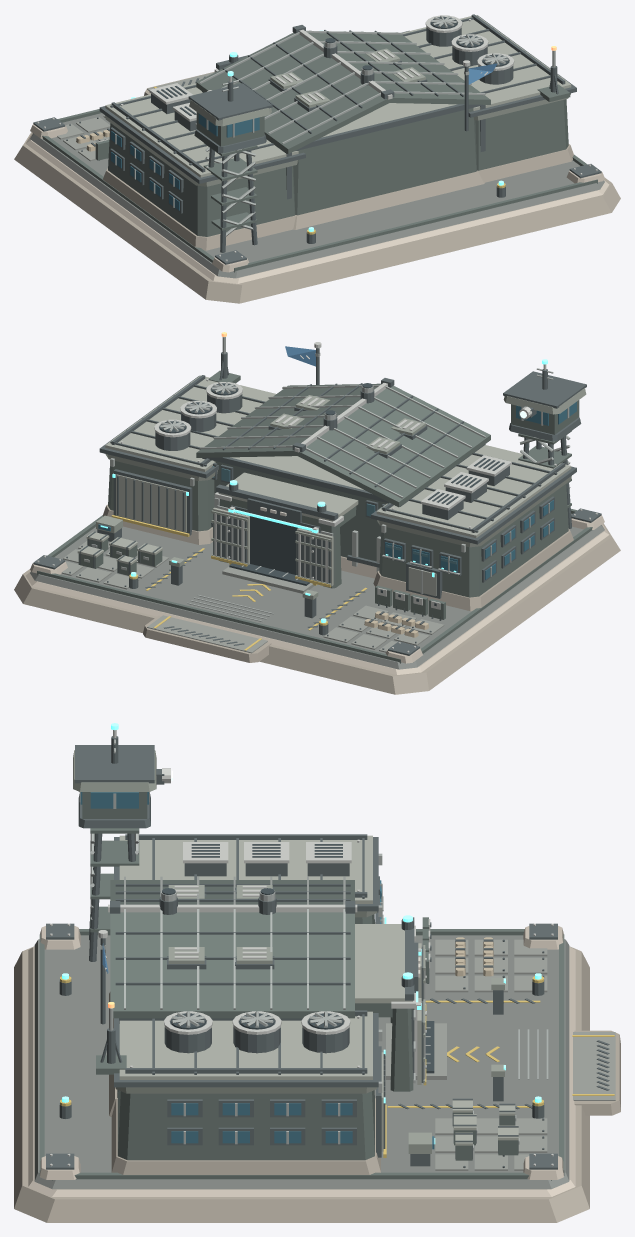
The model's file is sandforge_kaserne_betriebsbereit.glb.
The picture shows the model from 3 angles, top to bottom: view 1: azimuth 30°, elevation 25°; view 2: azimuth 150°, elevation 25°; view 3: azimuth 270°, elevation 25°; orthographic projection. The views are drawn at different scales.
Visible parts, largest first — view 1: static__olive_dark, static__foundation, static__steel_dark, static__deck, static__olive_light, static__steel, static__concrete_high, static__olive, static__steel_light, static__glass_dark, static__deck_light, static__recess; view 2: static__olive_dark, static__steel_dark, static__deck, static__olive_light, static__foundation, static__steel, static__deck_light, static__concrete_high, static__steel_light, static__recess, static__olive, static__glass_dark (+5 smaller); view 3: static__olive_dark, static__deck, static__steel_dark, static__foundation, static__olive_light, static__deck_light, static__concrete_high, static__steel_light, static__steel, static__olive, static__glass_dark, static__recess (+2 smaller).
Part boxes in pixels (box(x1,y1,x2,y2)): static__olive_dark: box(42, 30, 597, 272); static__foundation: box(14, 71, 620, 303); static__steel_dark: box(33, 14, 601, 264); static__deck: box(30, 113, 604, 278); static__olive_light: box(105, 15, 571, 177); static__steel: box(115, 15, 555, 236); static__concrete_high: box(25, 124, 609, 283); static__olive: box(105, 48, 570, 186); static__steel_light: box(37, 15, 597, 261); static__glass_dark: box(111, 113, 259, 210); static__deck_light: box(57, 72, 214, 161); static__recess: box(156, 16, 508, 115); static__olive_dark: box(37, 370, 592, 663); static__steel_dark: box(33, 348, 601, 655); static__deck: box(30, 513, 604, 669); static__olive_light: box(77, 375, 571, 596); static__foundation: box(14, 504, 620, 694); static__steel: box(84, 337, 570, 621); static__deck_light: box(61, 541, 444, 653); static__concrete_high: box(26, 515, 609, 674); static__steel_light: box(37, 342, 597, 652); static__recess: box(159, 383, 504, 606); static__olive: box(96, 388, 586, 599); static__glass_dark: box(98, 401, 576, 579); static__olive_dark: box(39, 792, 564, 1180); static__deck: box(34, 935, 569, 1189); static__steel_dark: box(46, 736, 609, 1169); static__foundation: box(14, 922, 620, 1222); static__olive_light: box(119, 835, 518, 1151); static__deck_light: box(386, 939, 615, 1170); static__concrete_high: box(28, 926, 575, 1196); static__steel_light: box(50, 730, 553, 1166); static__steel: box(79, 739, 548, 1150); static__olive: box(73, 750, 504, 1153); static__glass_dark: box(80, 792, 434, 1149); static__recess: box(162, 844, 434, 1073).
Size of the model in its own units: 20.2 by 9.14 by 19.23.
